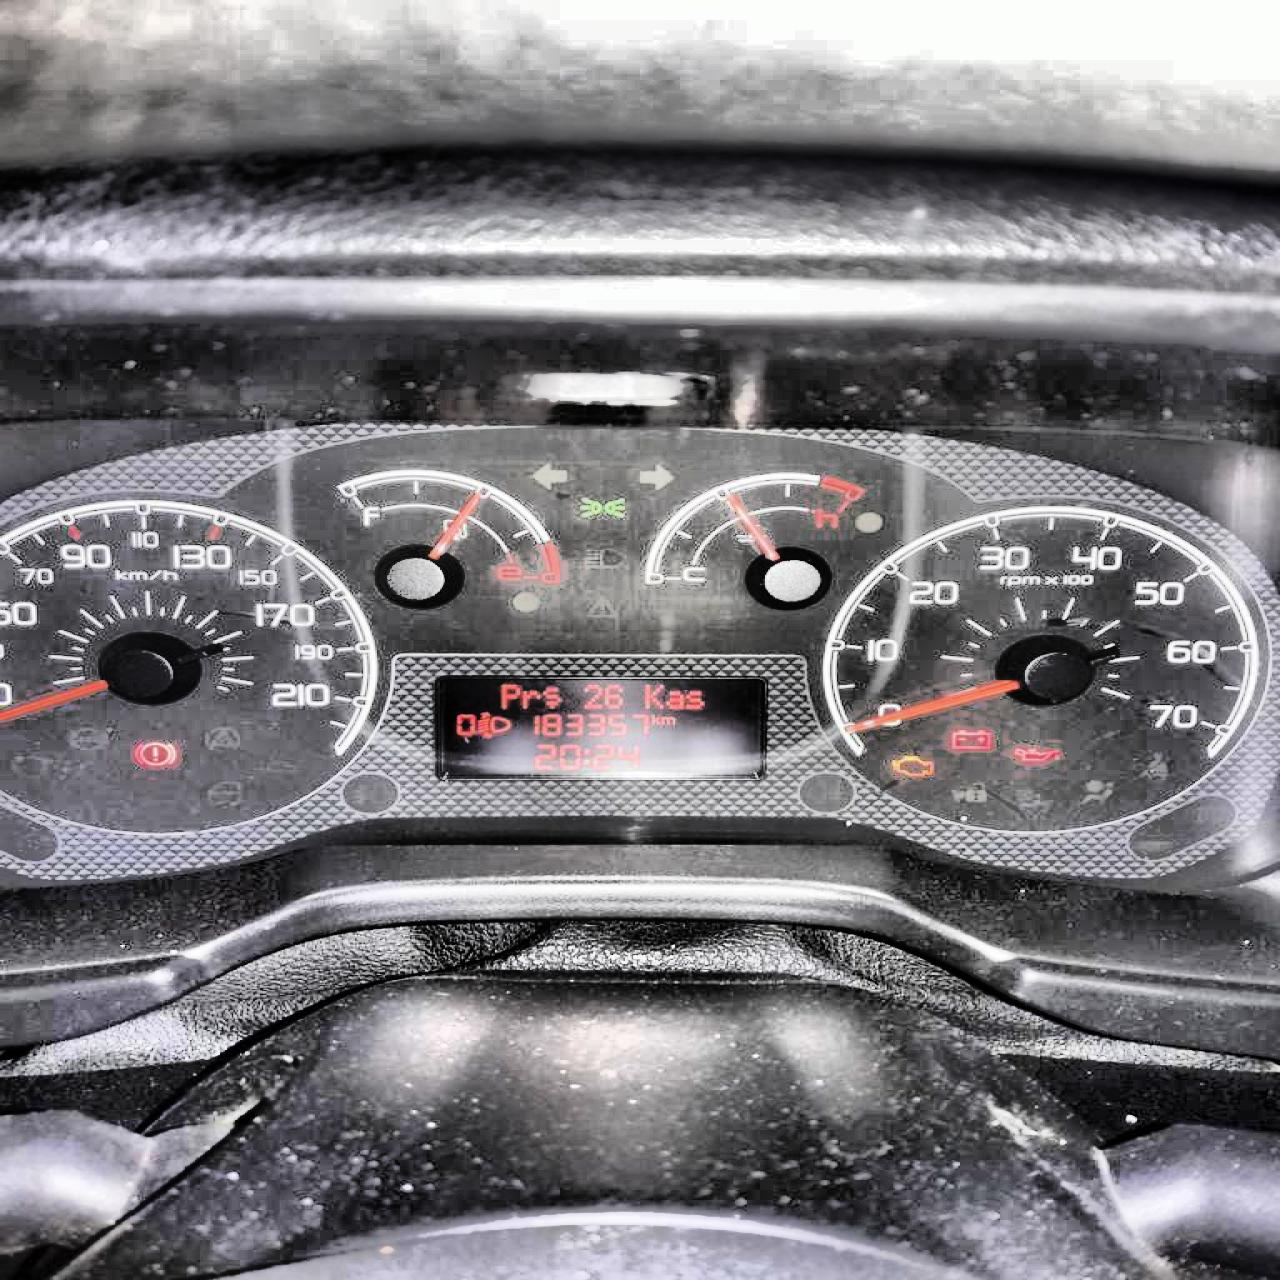0: (557, 742, 580, 769), (455, 713, 475, 735)
1: (532, 714, 538, 734)
2: (532, 742, 556, 770), (590, 742, 613, 769), (581, 682, 601, 708)
3: (585, 713, 605, 735), (564, 713, 584, 735)
4: (614, 742, 639, 768)
5: (605, 713, 625, 735)
6: (601, 682, 621, 708)
7: (629, 713, 648, 735)
8: (540, 713, 560, 735)
X: (641, 682, 663, 708), (498, 682, 518, 708), (540, 686, 560, 709), (663, 690, 683, 709), (683, 690, 703, 709), (519, 689, 538, 709), (580, 745, 590, 765), (660, 716, 675, 726), (649, 714, 659, 726)
odometer: (431, 674, 767, 779)
